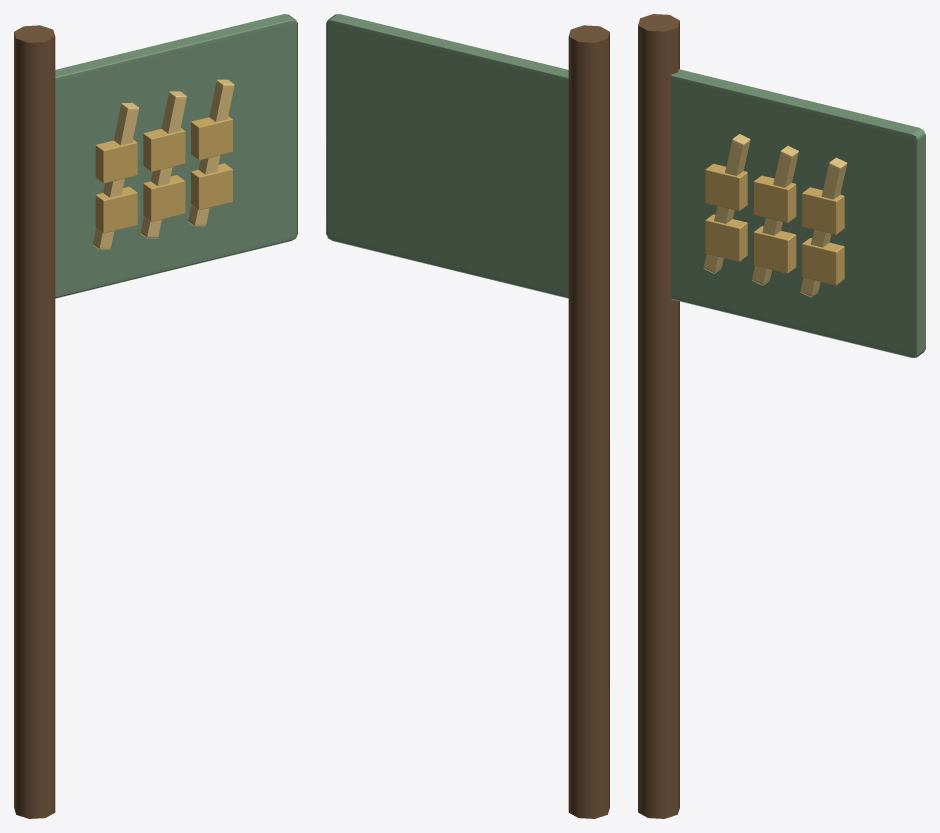
File: wheatbanner-1.glb
The picture shows the model from 3 angles, left to right: view 1: azimuth 30°, elevation 25°; view 2: azimuth 150°, elevation 25°; view 3: azimuth 330°, elevation 25°; orthographic projection.
Parts seen in each view (by area): view 1: wheatbanner-1-0; view 2: wheatbanner-1-0; view 3: wheatbanner-1-0.
Part boxes in pixels (<box>): wheatbanner-1-0: <box>14,14,297,818</box>; wheatbanner-1-0: <box>326,14,609,818</box>; wheatbanner-1-0: <box>638,14,925,818</box>.
Size of the model in its own units: 0.525 by 1.4 by 0.0735.
